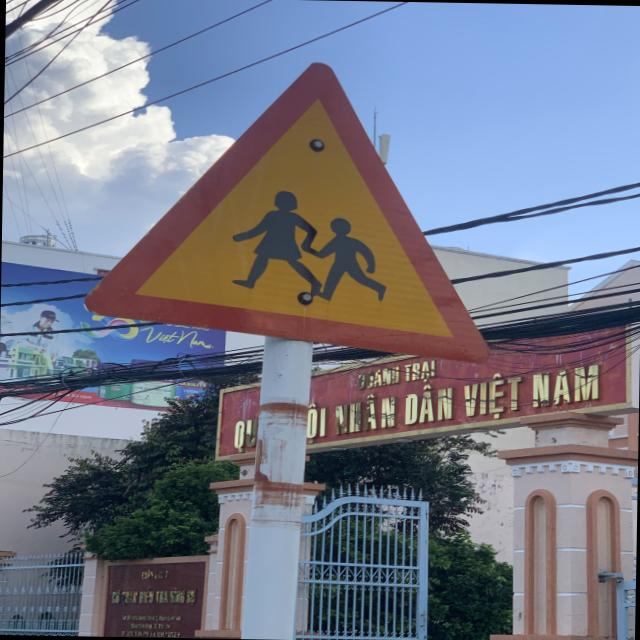Vong_Xuyen: (84, 55, 496, 362)
